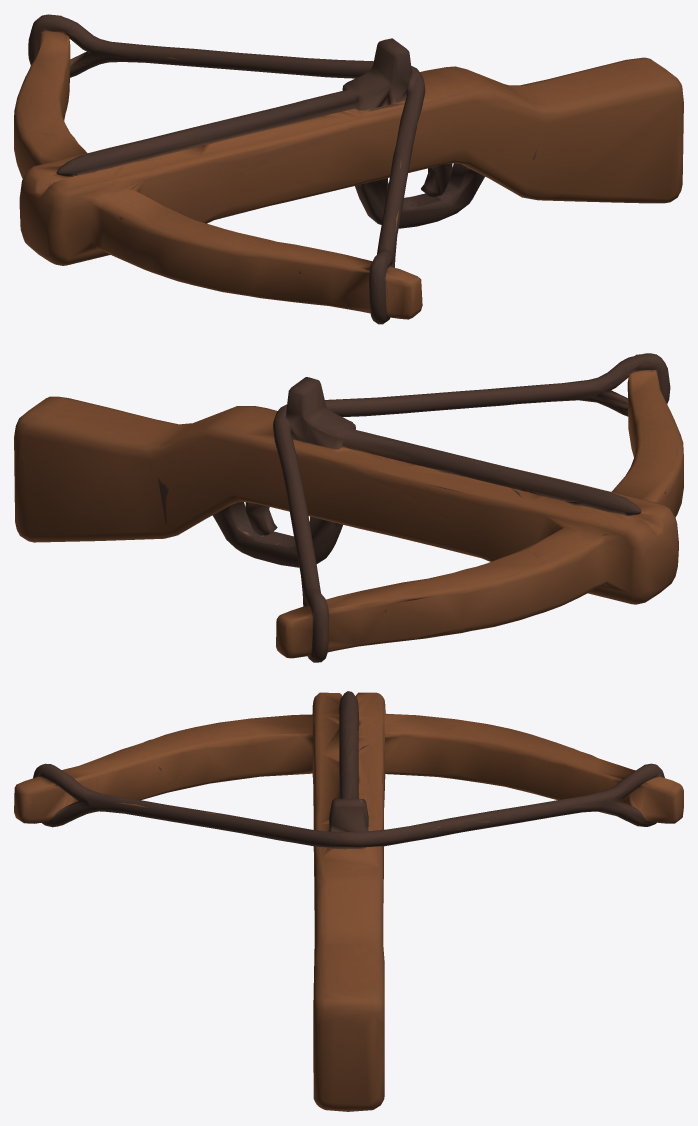
The model's file is TaroCrossbow.glb.
3 renders of one model, top to bottom at view 1: azimuth 30°, elevation 25°; view 2: azimuth 150°, elevation 25°; view 3: azimuth 270°, elevation 25°, orthographic. The views are drawn at different scales.
Visible parts, largest first — view 1: TaroCrossbow; view 2: TaroCrossbow; view 3: TaroCrossbow.
Boxes of the visible parts, x1,y1,x2,y2 form: TaroCrossbow: [14, 14, 683, 324]; TaroCrossbow: [14, 353, 683, 662]; TaroCrossbow: [14, 691, 683, 1111].
Size of the model in its own units: 1.9 by 0.6052 by 1.9.
Materials: 1 (1 with a texture image).
